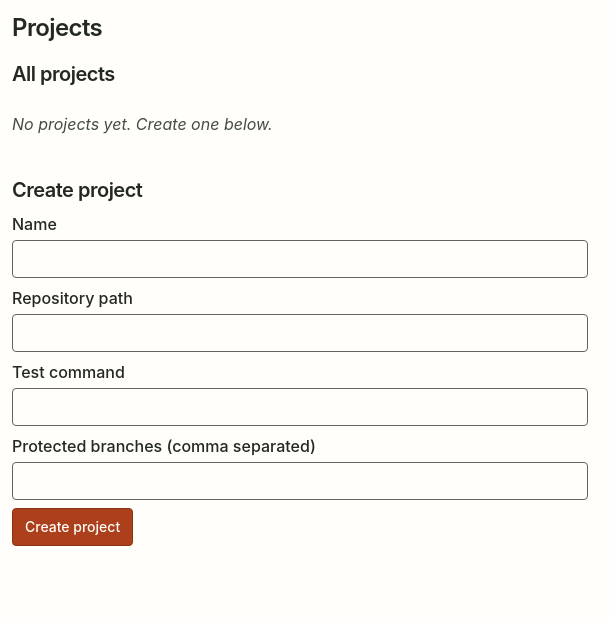
Test case: Projects › shows the server error code when creation fails
Expected: the text "No projects yet. Create one below." is shown, [12,114,273,134]
In the field labelled "Name": (300, 259) [12,240,588,278], type "x"
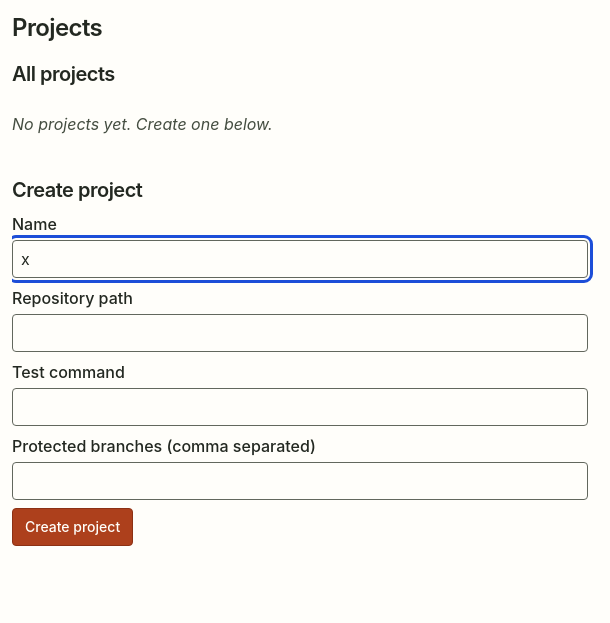
In the field labelled "Repository path": (300, 333) [12,314,588,352], type "/nope"
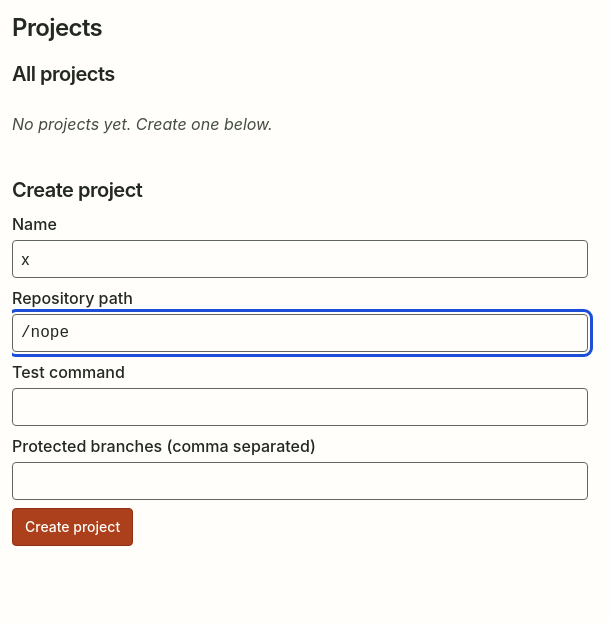
Click the button "Create project": click(73, 527) [12,508,133,546]
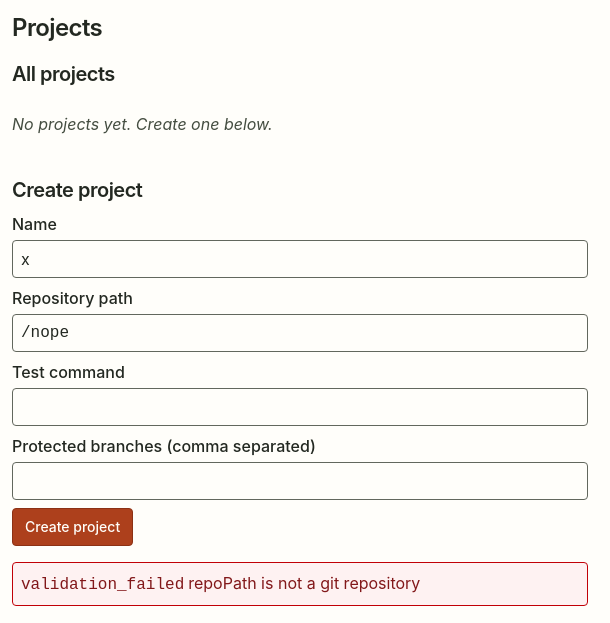
Now the message shows "validation_failed", box [21,576,184,594]
Now the message shows "not a git repository", box [188,573,420,593]
